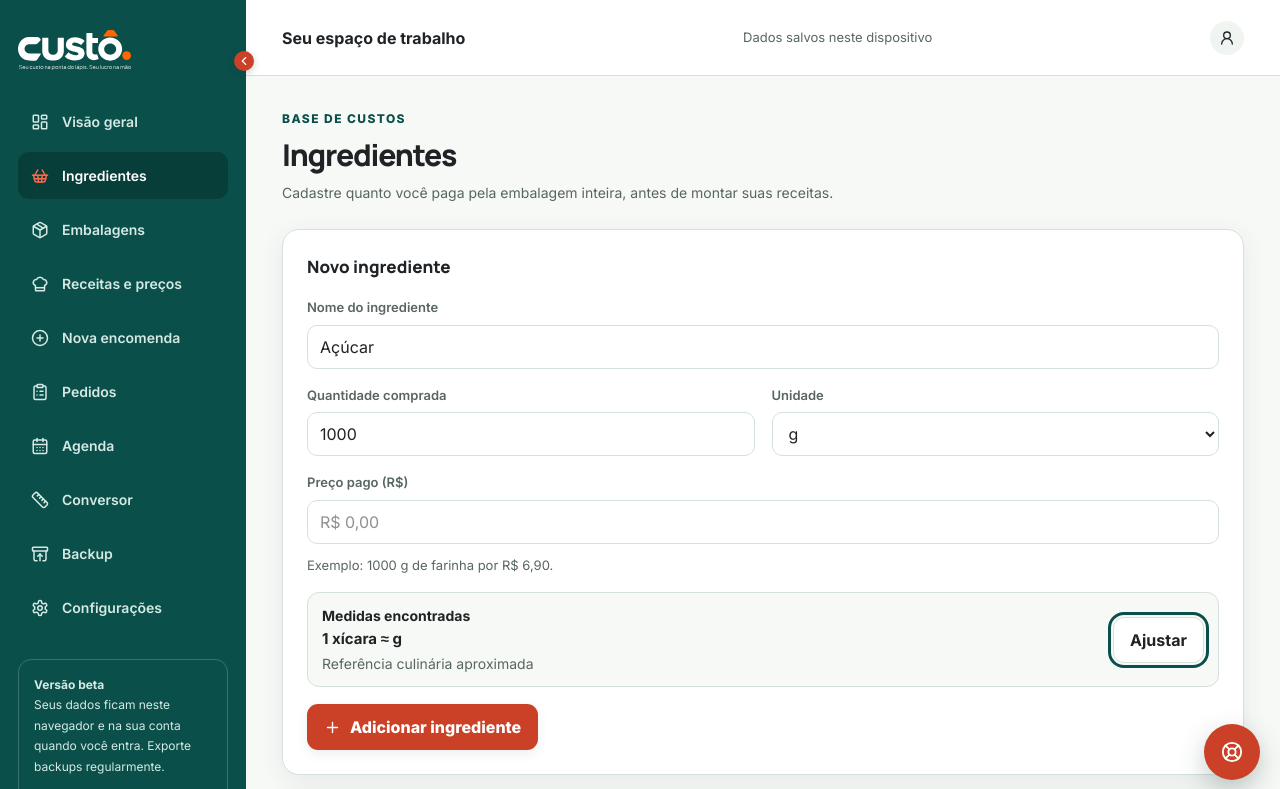
Cadastro simples de ingrediente › cancelar os ajustes (botão, Esc ou fechar) não altera nada e devolve o foco ao botão de origem
Earlier steps of the test are not shown.
Click the button "Ajustar" at coordinates (1158, 640), box [1113,617,1204,663]
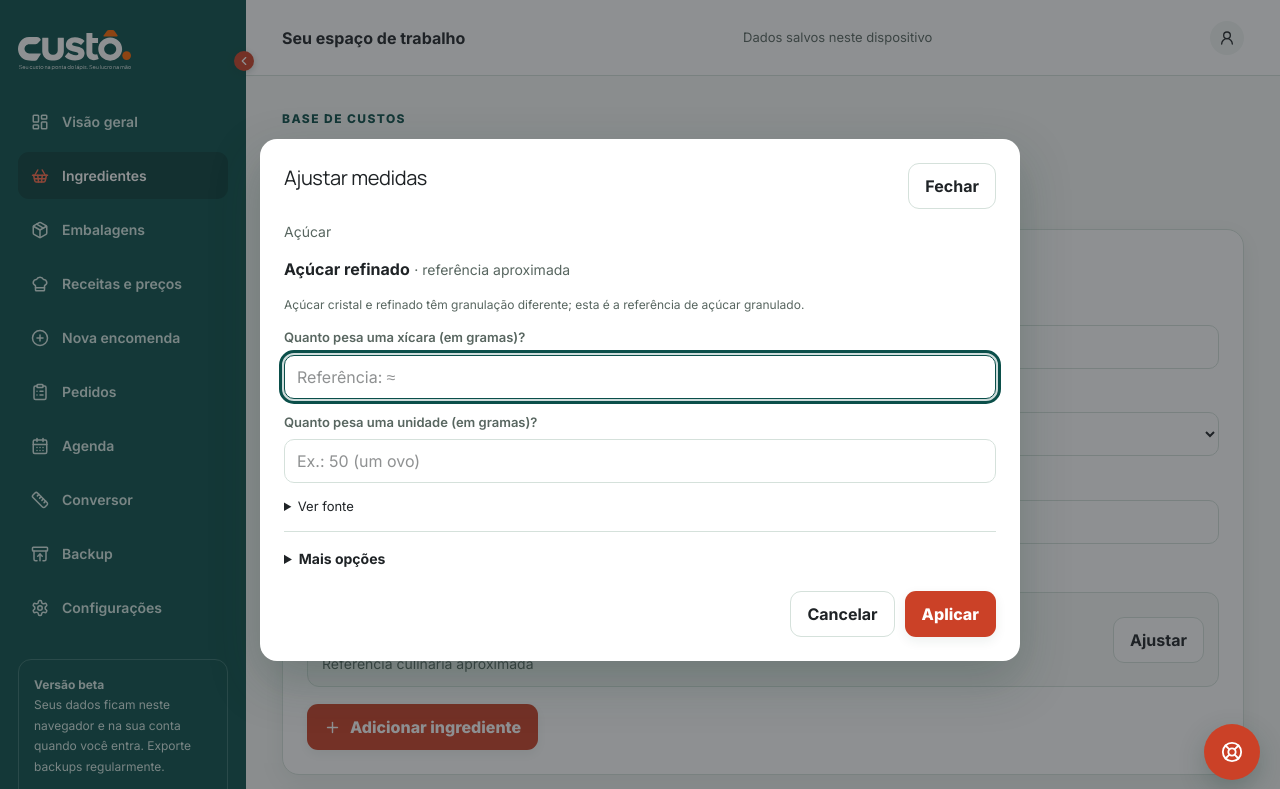
Type "999" into the field labelled "Quanto pesa uma xícara (em gramas)?" at coordinates (640, 377), box [284,355,996,399]
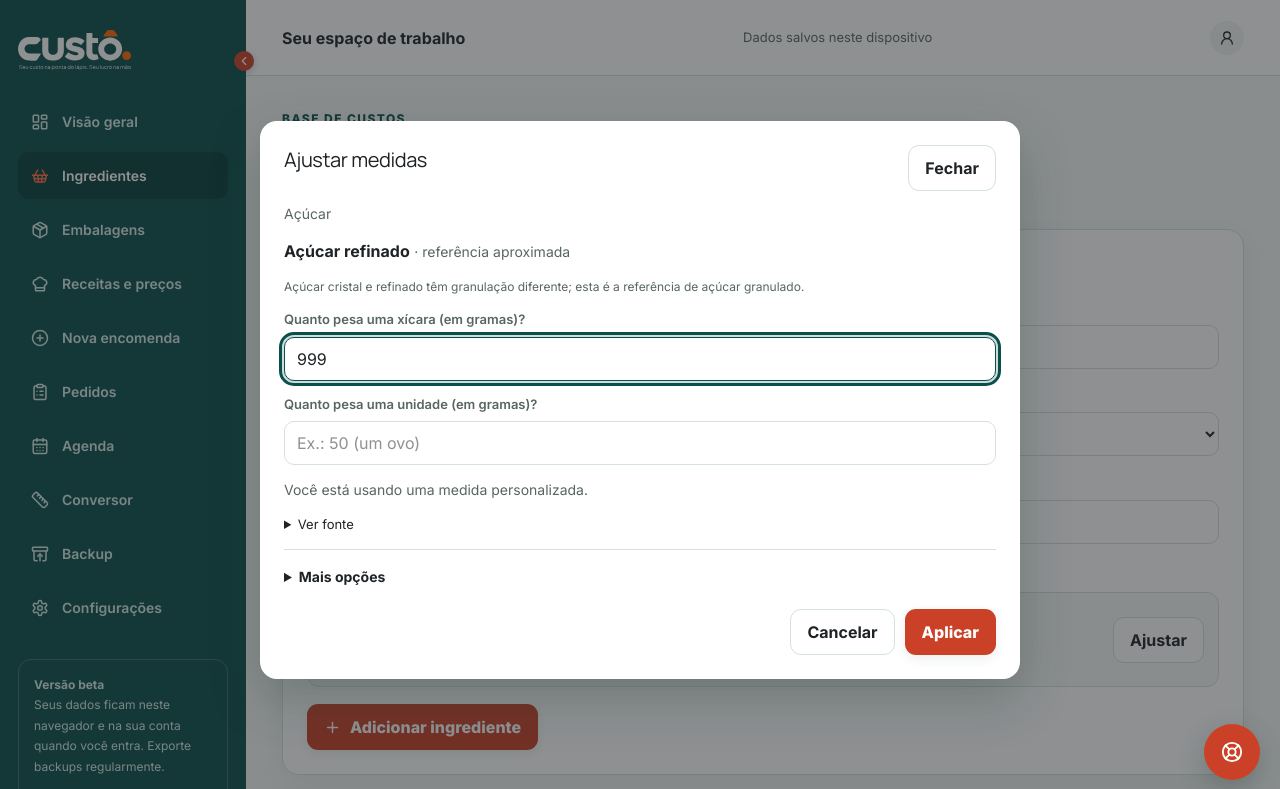
Press Escape
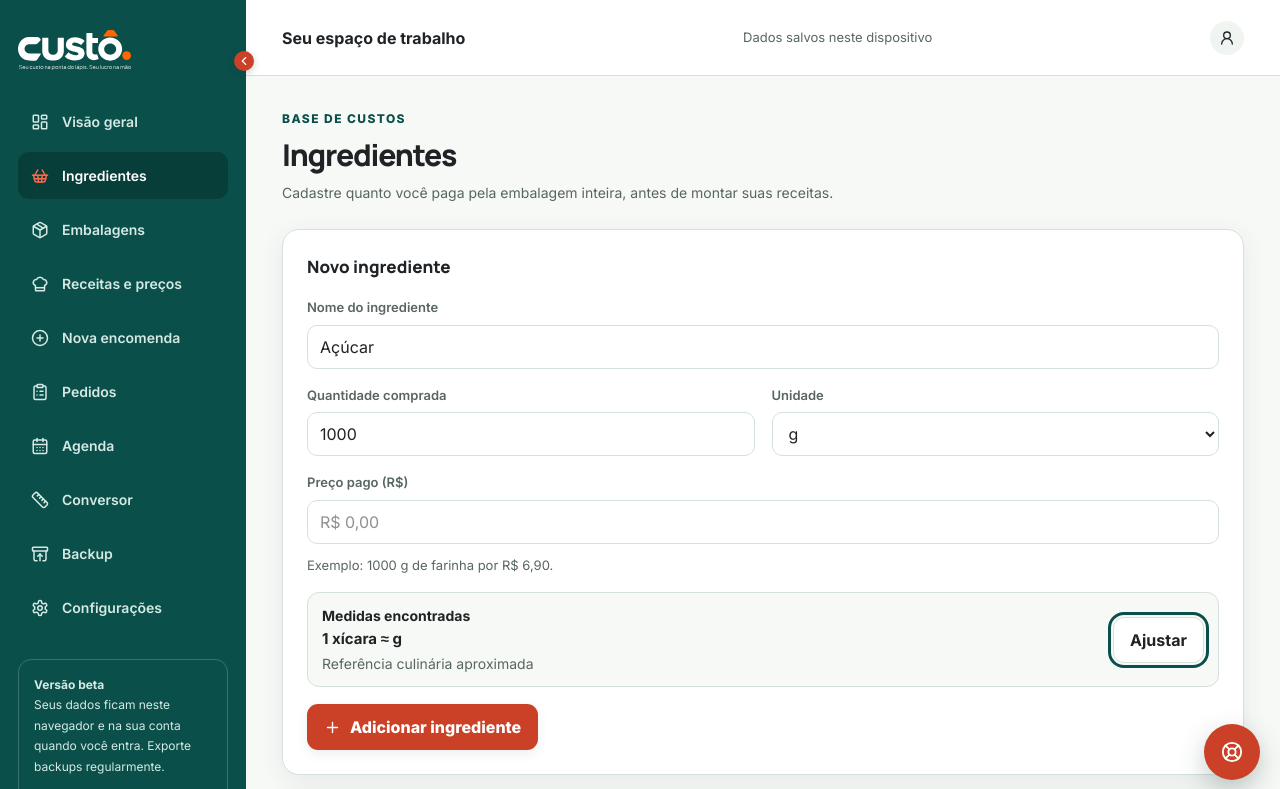
Expected: the dialog is gone
Click the button "Ajustar" at coordinates (1158, 640), box [1113,617,1204,663]
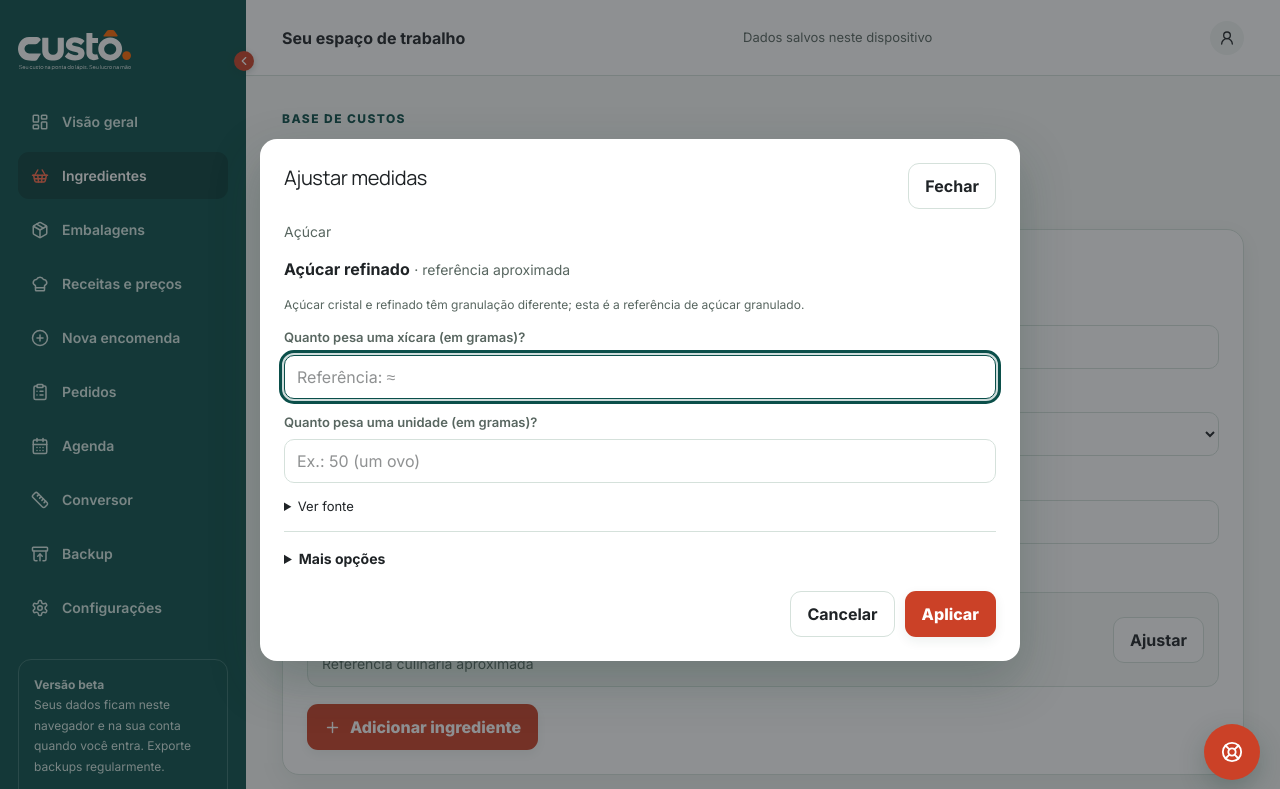
Click the button with aria-label "Fechar sem salvar" at coordinates (952, 186), box [908,163,996,209]
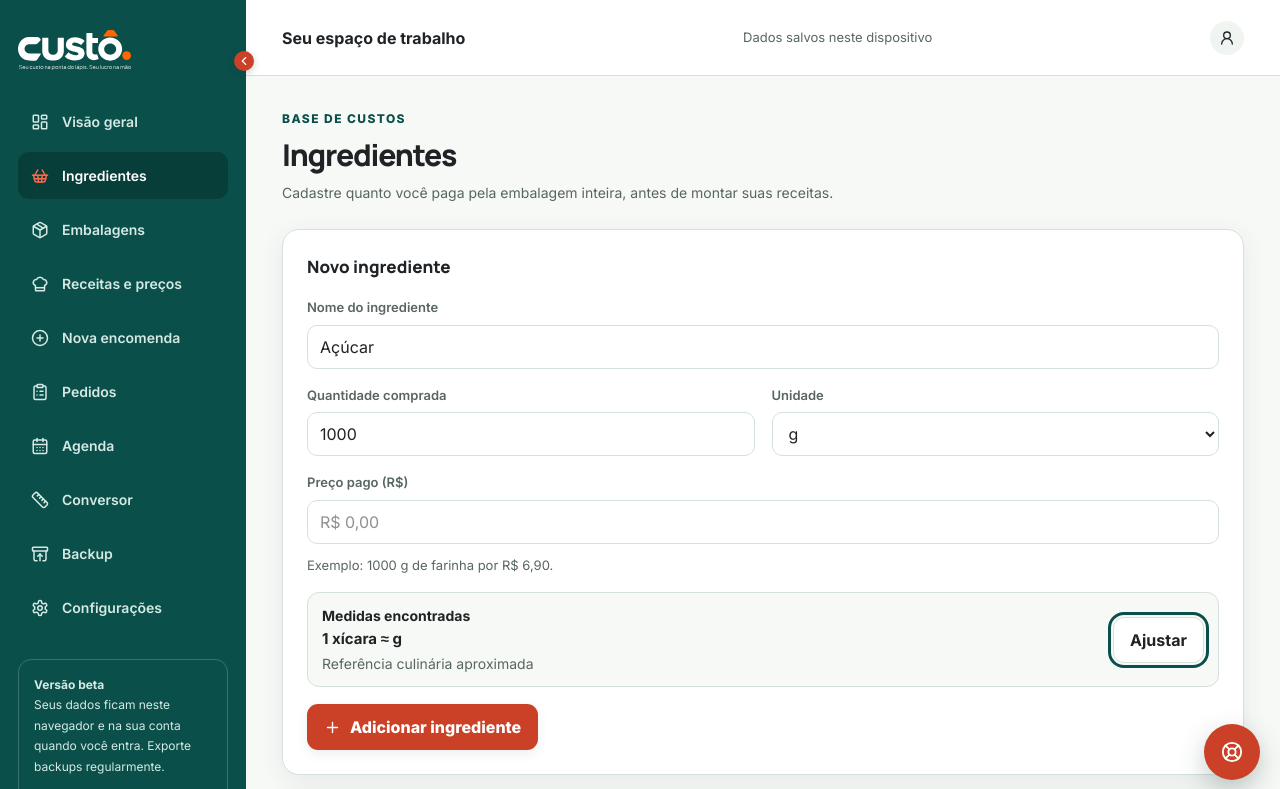
Expected: the dialog is gone
Click the button "Ajustar" at coordinates (1158, 640), box [1113,617,1204,663]
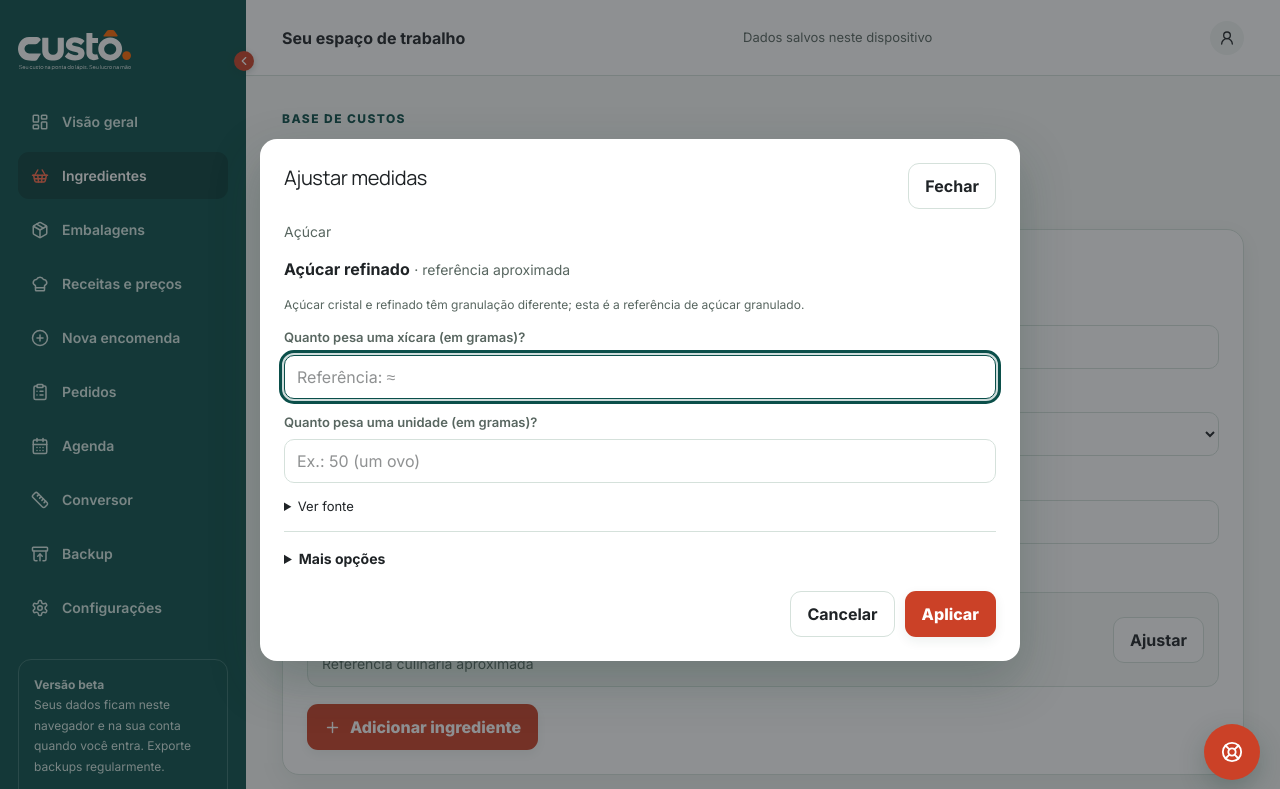
Expected: the field labelled "Quanto pesa uma xícara (em gramas)?" is empty, [284,355,996,399]
